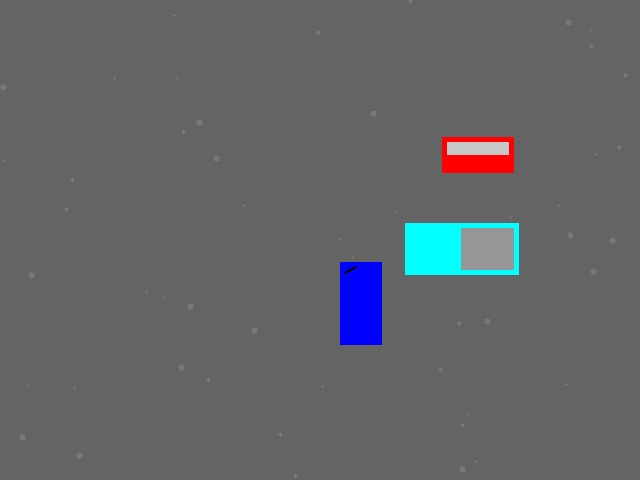car: (442, 137, 513, 172)
motorcycle: (340, 262, 381, 344)
truck: (405, 223, 518, 274)
